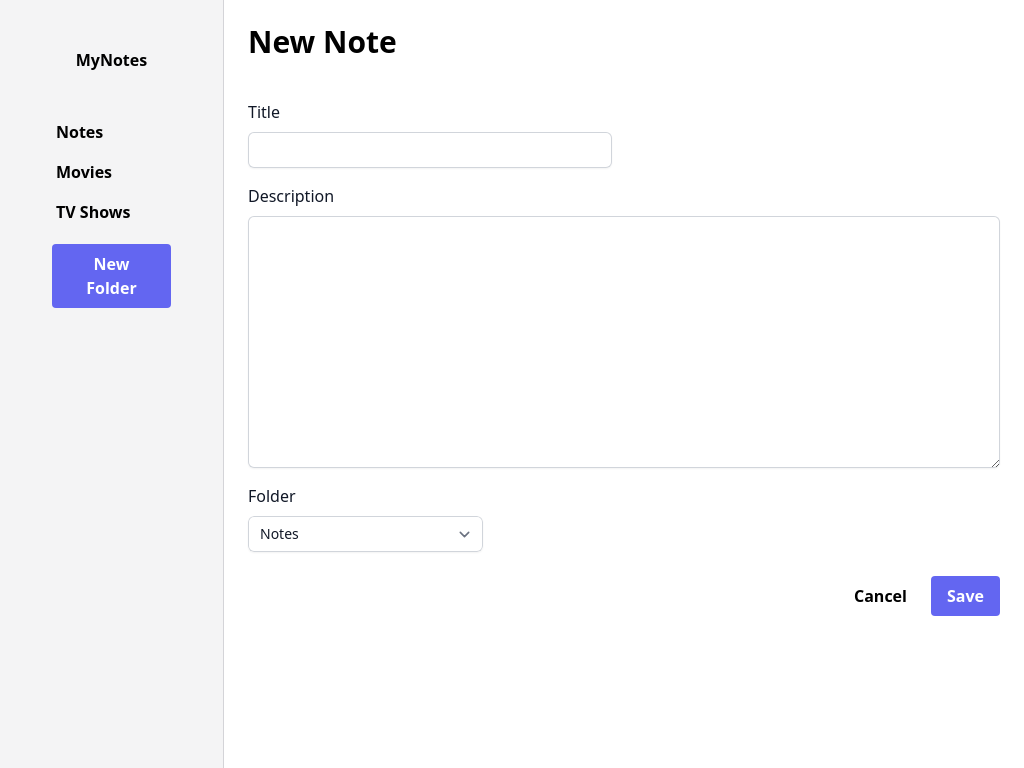
Test: should go back to the notes list, when the cancel button is clicked
Step 1. Click the link "Cancel" → (880, 596), box [854, 585, 907, 607]
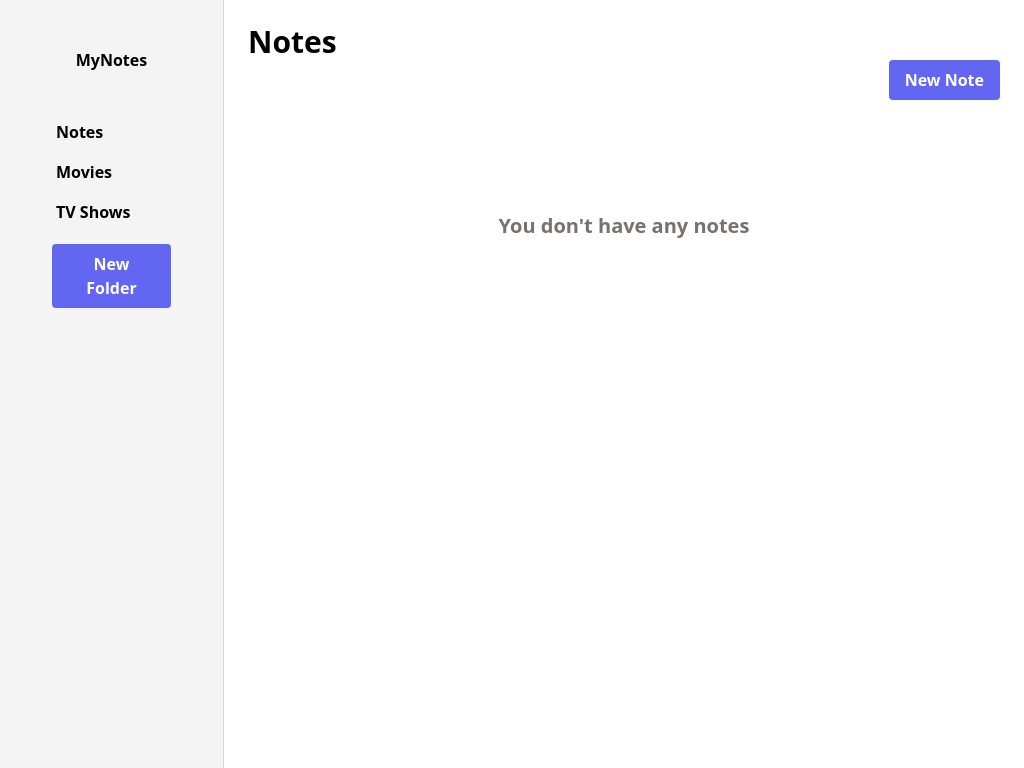
Now the heading "Notes" is shown, box [248, 21, 337, 62]
